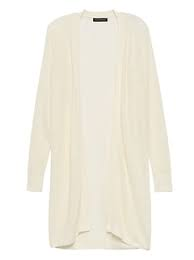S_cardigan sweater: (28, 16, 176, 247)
